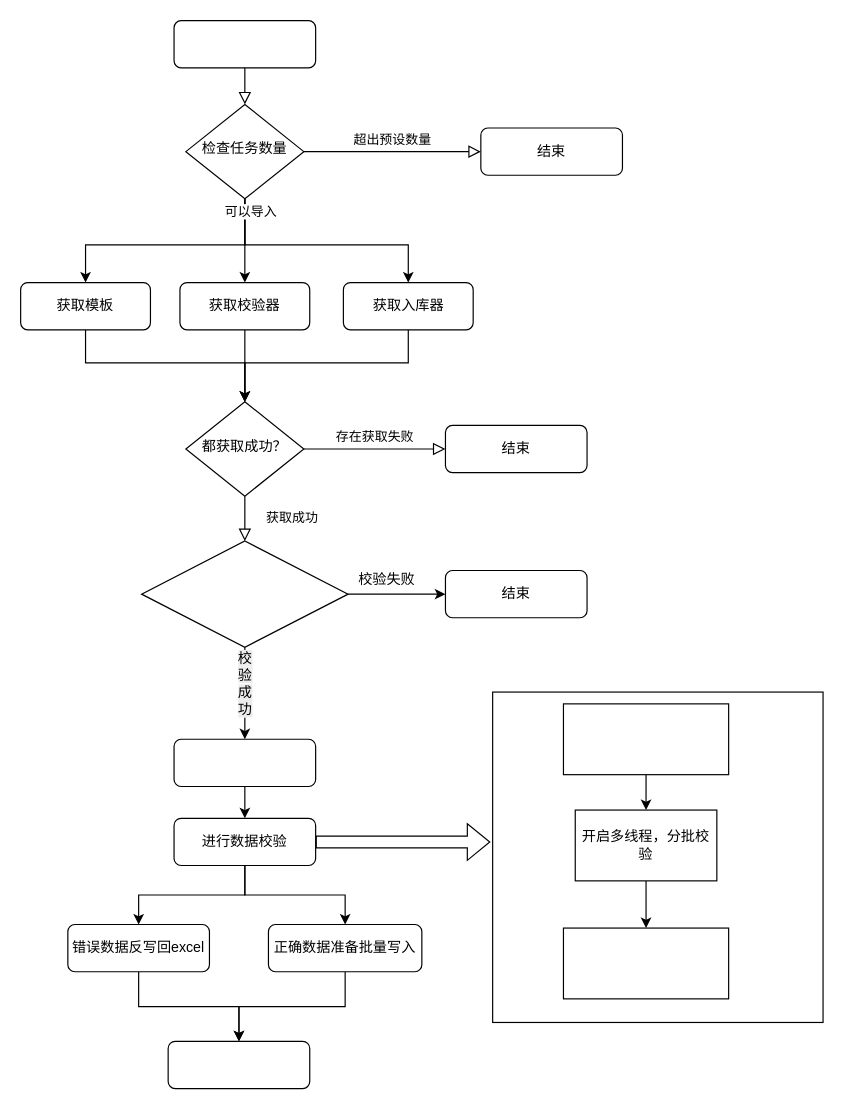
The diagram is 844 pixels wide and 1109 high, and some of its shapes have lost their labels. The shapes that lost their labels are listed below. From the top down, each one's box as (x1, y1, x2, y2) in pixels, then its label:
(173, 19, 316, 68): 开始
(140, 540, 348, 647): 进行整体校验： 行数 项目状态 列信息
(562, 703, 729, 775): 统一查询主数据、基础数据等信息
(173, 738, 316, 786): 添加进度条\进入导入任务
(562, 927, 729, 999): 一条一条检验（并根据模板信息封装结果）
(167, 1040, 310, 1089): 返回成功结果或错误数据文件
